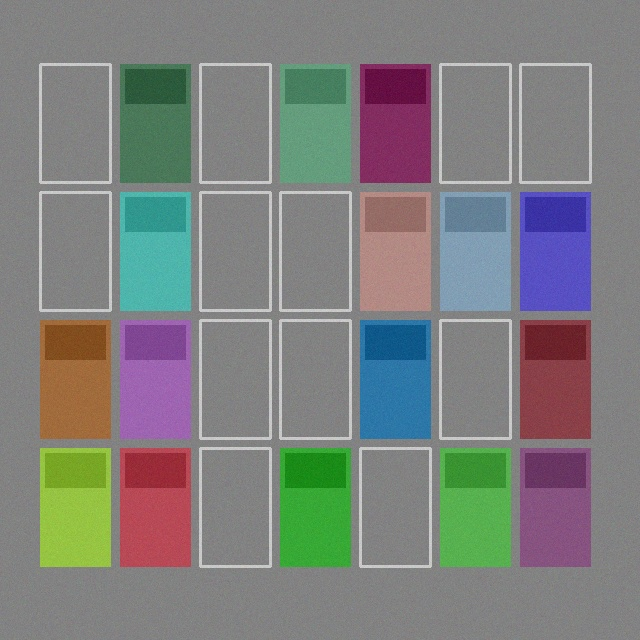space-empty: (40, 64, 110, 182), (200, 64, 270, 182), (440, 64, 510, 182), (520, 64, 590, 182), (40, 192, 110, 310), (200, 192, 270, 310), (280, 192, 350, 310), (200, 320, 270, 438), (280, 320, 350, 438), (440, 320, 510, 438), (200, 448, 270, 566), (360, 448, 430, 566)
space-occupied: (120, 64, 190, 182), (280, 64, 350, 182), (360, 64, 430, 182), (120, 192, 190, 310), (360, 192, 430, 310), (440, 192, 510, 310), (520, 192, 590, 310), (40, 320, 110, 438), (120, 320, 190, 438), (360, 320, 430, 438), (520, 320, 590, 438), (40, 448, 110, 566), (120, 448, 190, 566), (280, 448, 350, 566), (440, 448, 510, 566), (520, 448, 590, 566)
